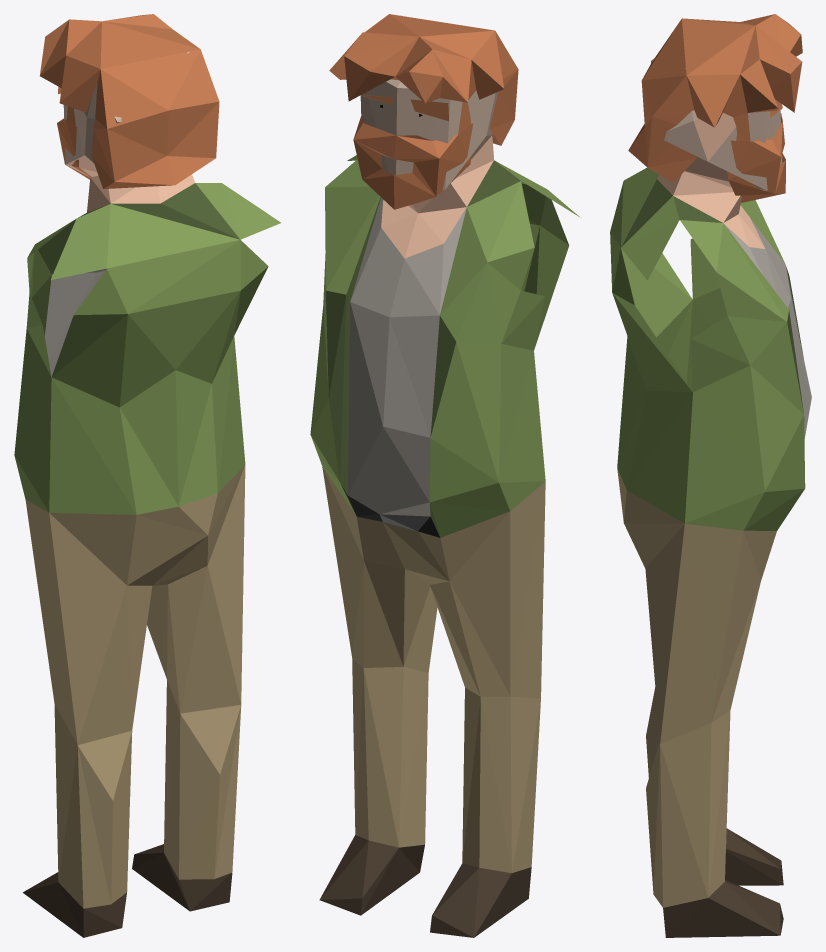
The model's file is Body_Lo.obj.
The picture shows the model from 3 angles, left to right: view 1: azimuth 30°, elevation 25°; view 2: azimuth 150°, elevation 25°; view 3: azimuth 270°, elevation 25°; orthographic projection.
Bounding box in the file's own units: 0.507 × 1.82 × 0.3813.
1 material, 1 textured.
